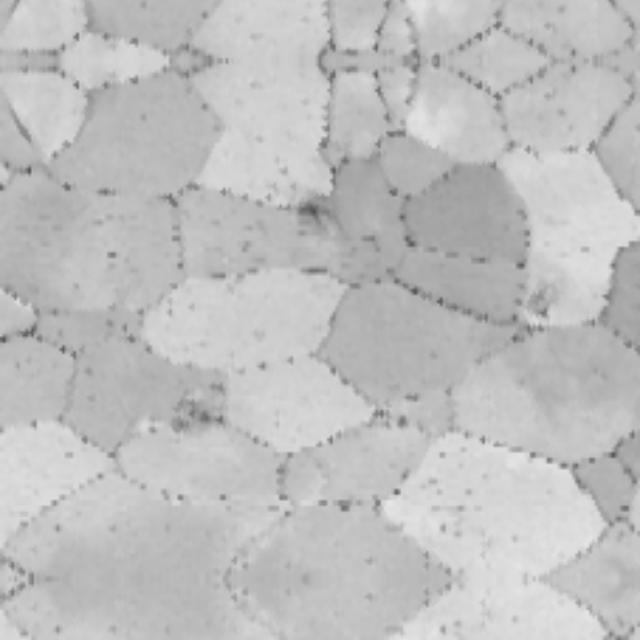good_void: (295, 196, 344, 240)
